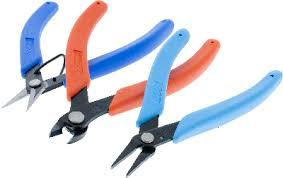pliers: (108, 26, 281, 177), (48, 1, 220, 144), (1, 0, 173, 112)
